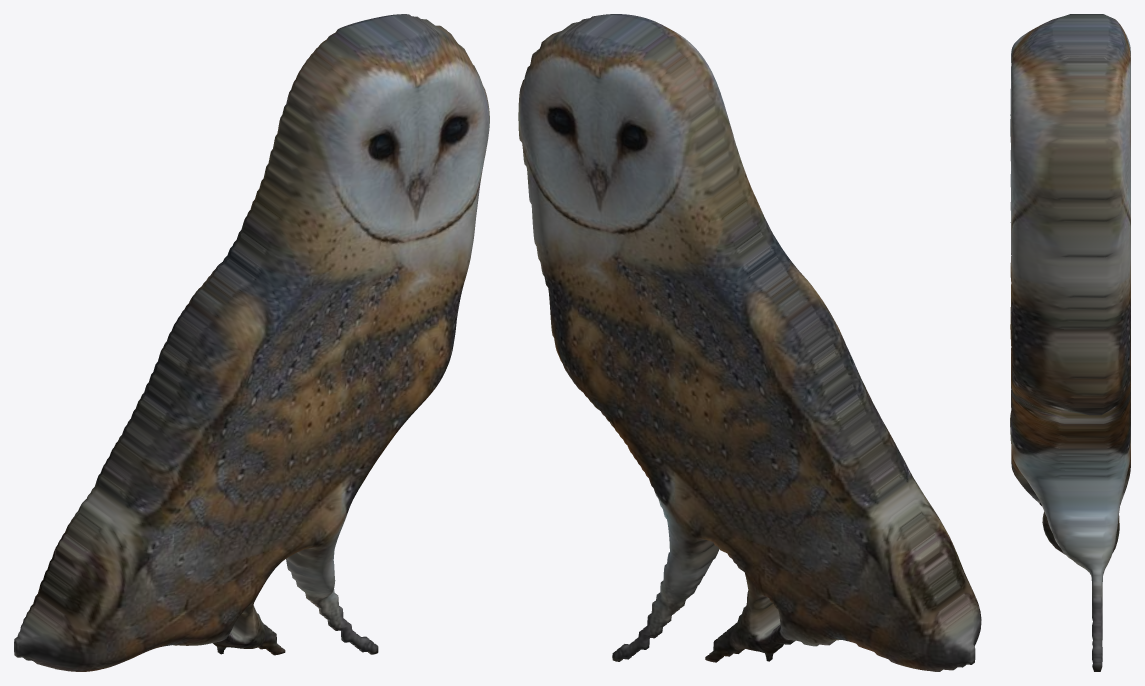
The model's file is owl_324147361.glb.
The picture shows the model from 3 angles, left to right: view 1: azimuth 30°, elevation 25°; view 2: azimuth 150°, elevation 25°; view 3: azimuth 270°, elevation 25°; orthographic projection. The views are drawn at different scales.
Parts seen in each view (by area): view 1: owl_324147361; view 2: owl_324147361; view 3: owl_324147361.
Part boxes in pixels (<box>): owl_324147361: <box>14,14,489,671</box>; owl_324147361: <box>518,14,981,671</box>; owl_324147361: <box>1010,14,1130,671</box>.
Bounding box in the file's own units: 1.45 × 1.94 × 0.3309.
1 material, 1 textured.
